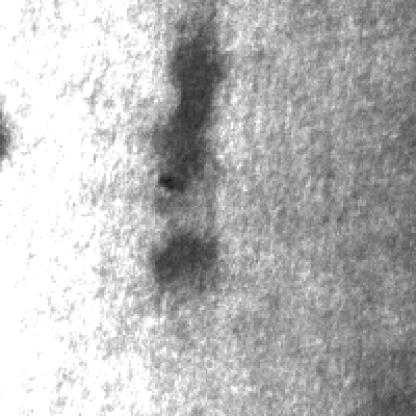patches: (150, 25, 226, 200), (154, 239, 222, 291)
